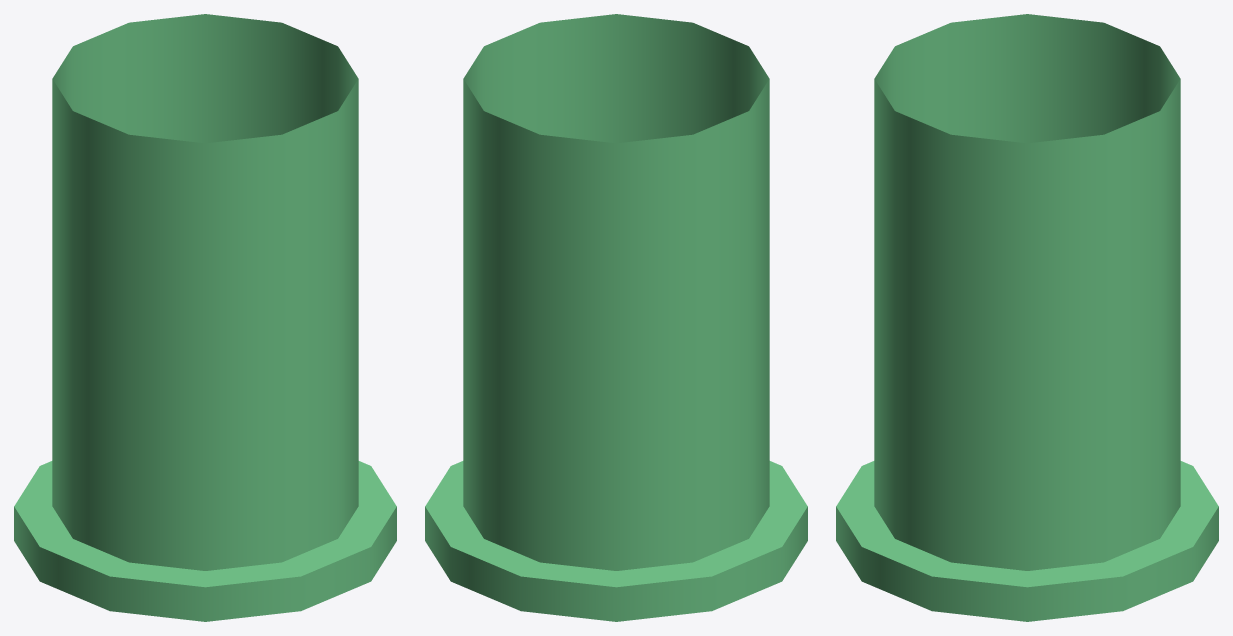
File: Pipe_Basic_2Way_Short.fbx
3 renders of one model, left to right at view 1: azimuth 30°, elevation 25°; view 2: azimuth 150°, elevation 25°; view 3: azimuth 270°, elevation 25°, orthographic.
Parts seen in each view (by area): view 1: Pipe_Basic_2Way_Short; view 2: Pipe_Basic_2Way_Short; view 3: Pipe_Basic_2Way_Short.
Boxes of the visible parts, x1,y1,x2,y2 form: Pipe_Basic_2Way_Short: (14,14,396,621); Pipe_Basic_2Way_Short: (425,14,807,621); Pipe_Basic_2Way_Short: (836,14,1218,621).
Bounding box in the file's own units: 75 × 100 × 75.
